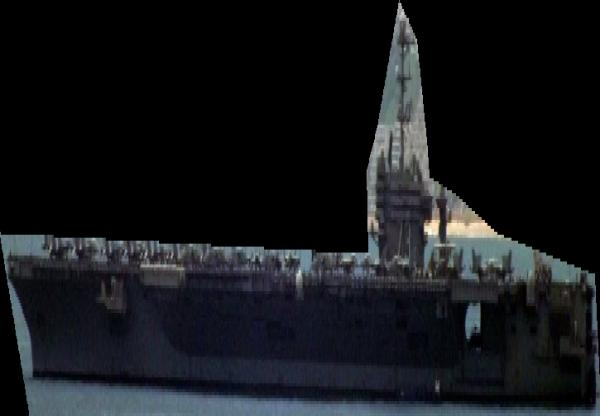Aircraft Carrier: (0, 0, 600, 416)
